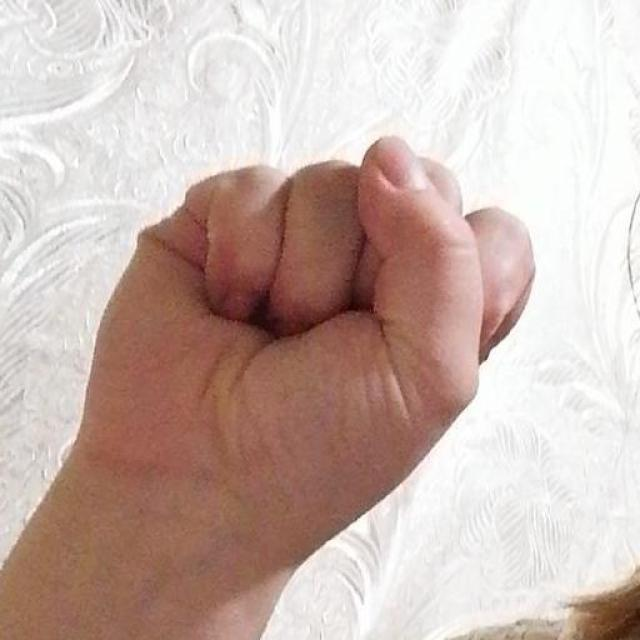hand: (65, 132, 536, 600)
